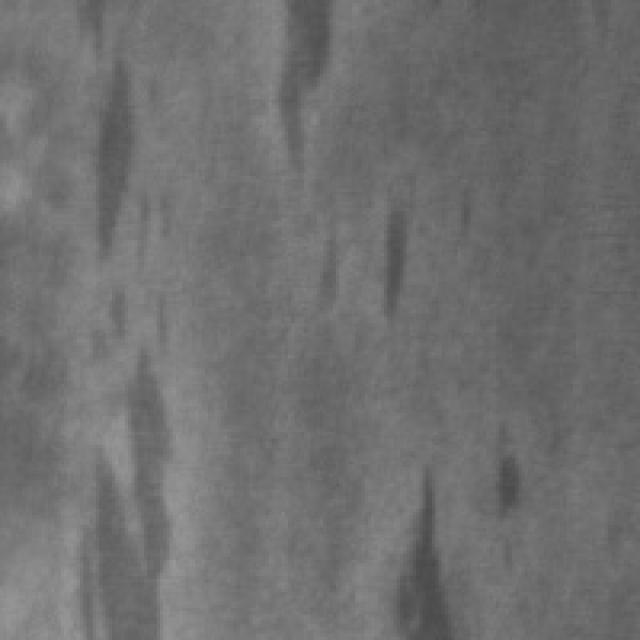inclusion: (67, 189, 189, 630), (70, 0, 176, 285), (378, 448, 458, 637), (259, 0, 339, 186), (477, 406, 528, 564), (365, 195, 419, 320)
